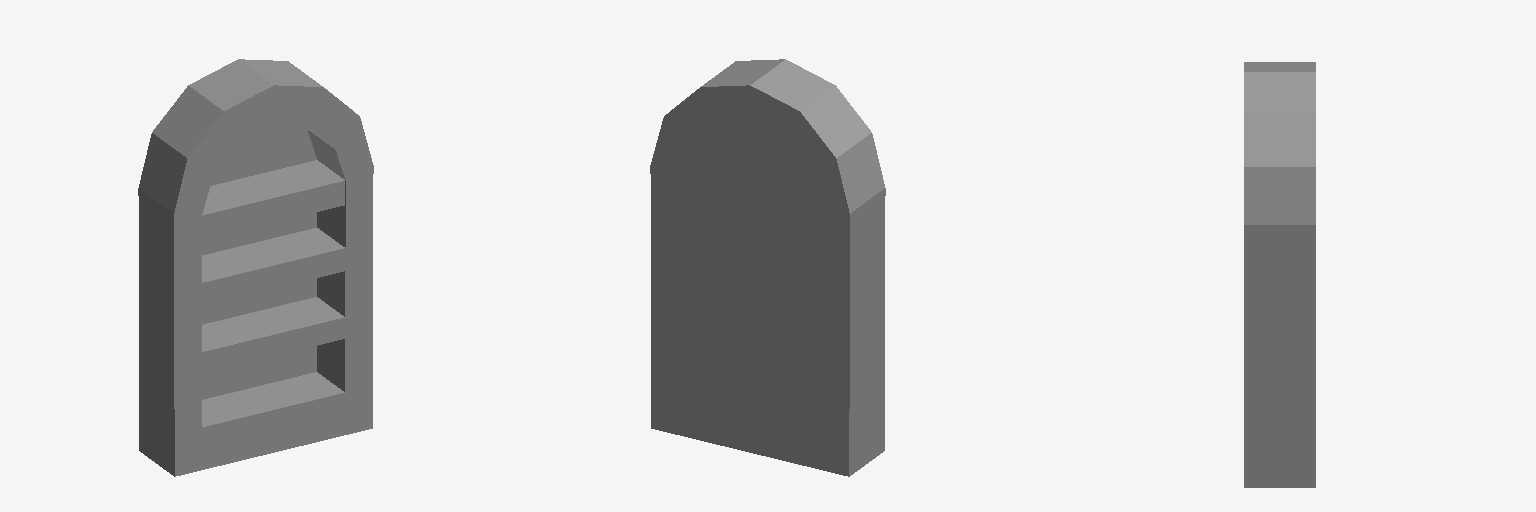
Rendered from Bookcase.obj.
3 renders of one model, left to right at view 1: azimuth 30°, elevation 25°; view 2: azimuth 150°, elevation 25°; view 3: azimuth 270°, elevation 25°, orthographic.
Visible parts, largest first — view 1: bookcase; view 2: bookcase; view 3: bookcase.
Boxes of the visible parts, x1=… form: bookcase: x1=138, y1=59, x2=373, y2=476; bookcase: x1=650, y1=59, x2=885, y2=476; bookcase: x1=1244, y1=62, x2=1315, y2=487.
Bounding box in the file's own units: 2.05 × 3.61 × 0.6349.